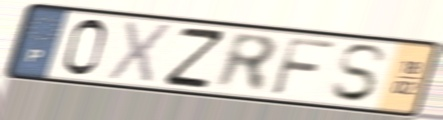0: (62, 16, 107, 78)
F: (267, 34, 340, 98)
R: (213, 29, 281, 96)
S: (327, 42, 391, 105)
X: (104, 18, 176, 87)
Z: (161, 26, 229, 90)
